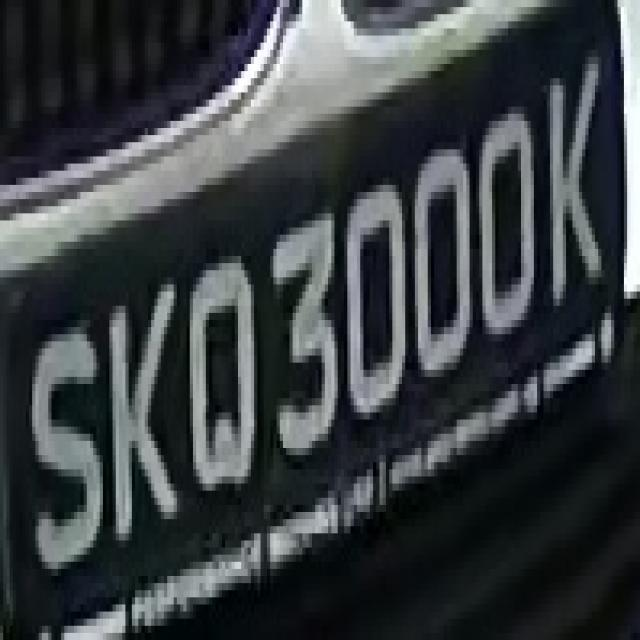0: (402, 128, 479, 391), (338, 178, 412, 448), (463, 107, 540, 341)
3: (260, 206, 348, 476)
K: (90, 278, 193, 548), (540, 28, 614, 334)
Q: (174, 242, 267, 512)
S: (19, 278, 119, 598)
